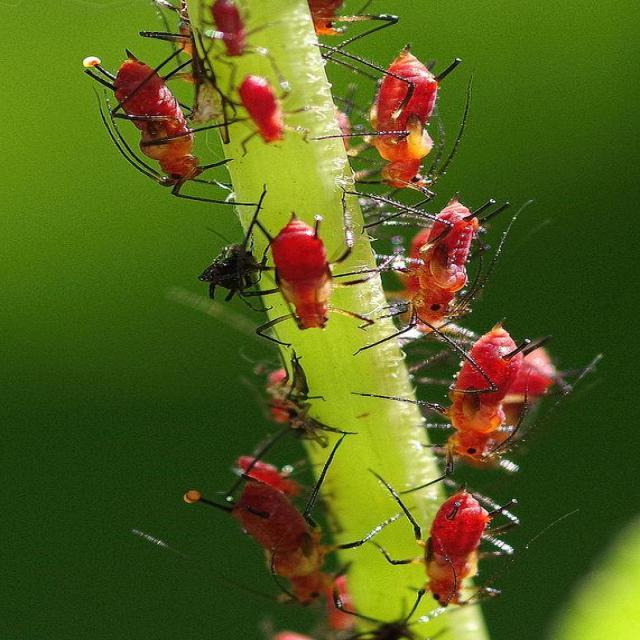aphid: (64, 39, 245, 213), (244, 206, 412, 364), (180, 466, 362, 597), (366, 188, 506, 346), (384, 478, 534, 618), (343, 36, 468, 189), (432, 328, 552, 482)
